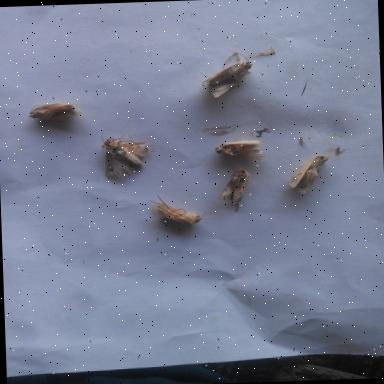abw: (196, 44, 278, 102), (88, 125, 161, 182), (282, 150, 334, 200), (143, 189, 207, 229), (210, 166, 256, 214), (21, 96, 82, 129), (209, 134, 274, 162)
